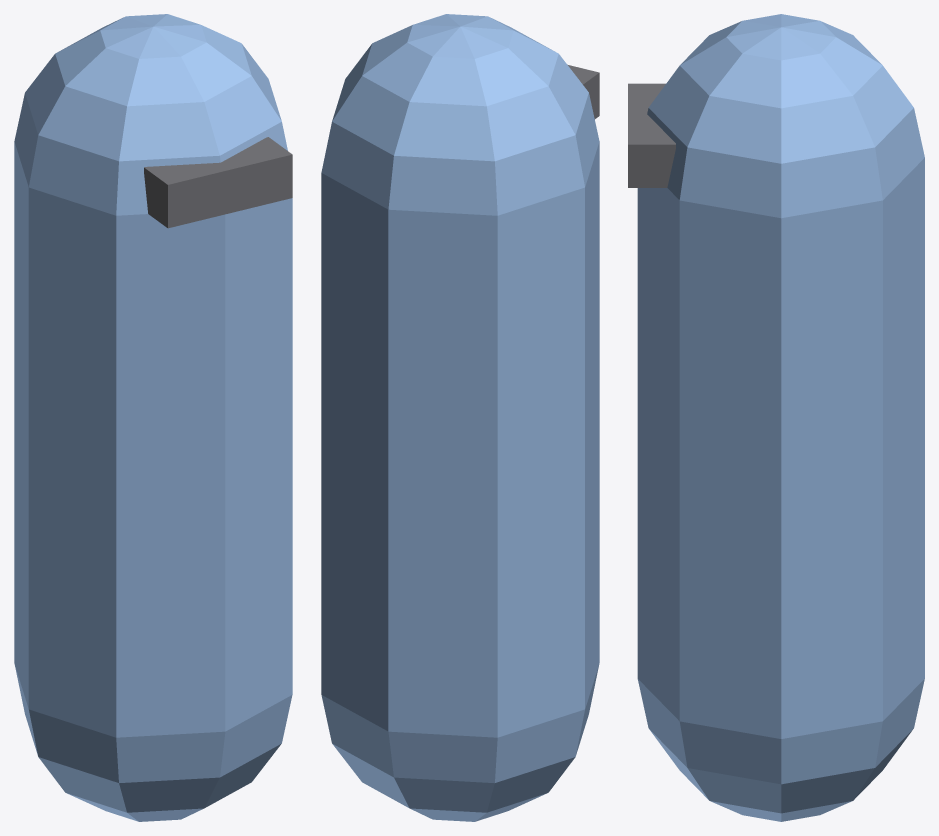
The model's file is player_scale_ref.glb.
3 renders of one model, left to right at view 1: azimuth 30°, elevation 25°; view 2: azimuth 150°, elevation 25°; view 3: azimuth 270°, elevation 25°, orthographic.
Parts seen in each view (by area): view 1: player_scale_ref_player, player_scale_ref_dark; view 2: player_scale_ref_player, player_scale_ref_dark; view 3: player_scale_ref_player, player_scale_ref_dark.
Boxes of the visible parts, x1,y1,x2,y2 form: player_scale_ref_player: [14, 14, 292, 821]; player_scale_ref_dark: [144, 137, 292, 228]; player_scale_ref_player: [321, 14, 599, 821]; player_scale_ref_dark: [567, 64, 599, 119]; player_scale_ref_player: [637, 14, 924, 821]; player_scale_ref_dark: [628, 83, 675, 187].
Size of the model in its own units: 0.6 by 1.8 by 0.62.
